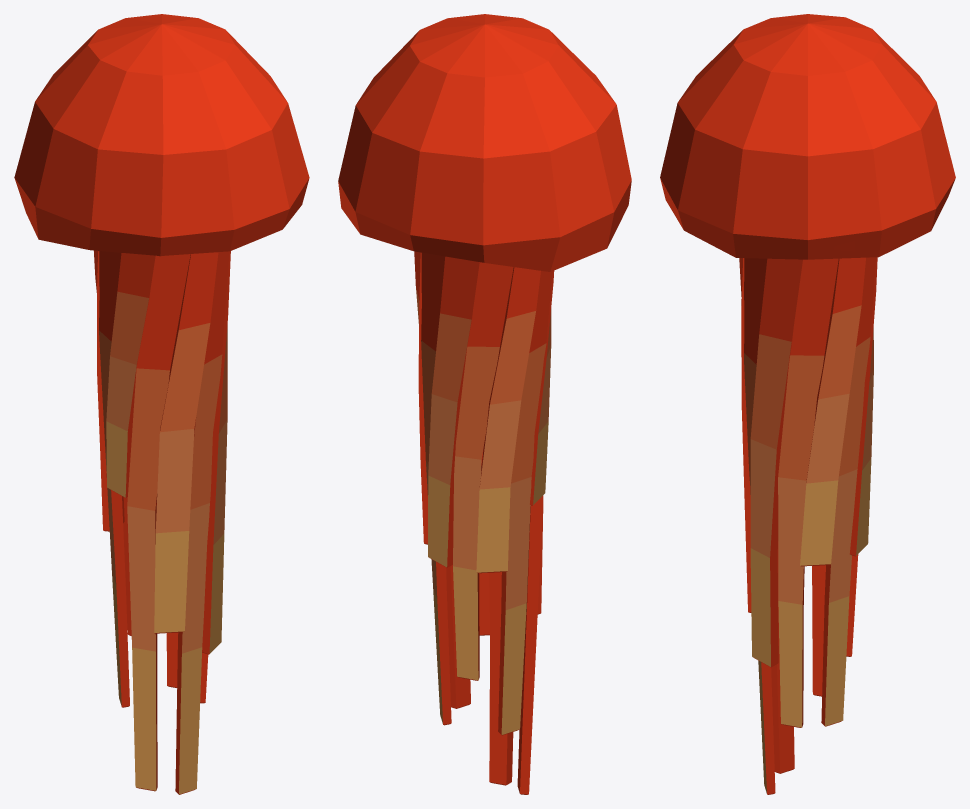
The model's file is jellyfish.glb.
3 views of the same model, side by side, from view 1: azimuth 30°, elevation 25°; view 2: azimuth 150°, elevation 25°; view 3: azimuth 270°, elevation 25° (orthographic). The views are drawn at different scales.
Visible parts, largest first — view 1: Jellyfish; view 2: Jellyfish; view 3: Jellyfish.
Boxes of the visible parts, <box> form: Jellyfish: <box>14,14,309,794</box>; Jellyfish: <box>338,14,631,794</box>; Jellyfish: <box>660,14,955,794</box>.
Size of the model in its own units: 0.6156 by 1.76 by 0.6158.
